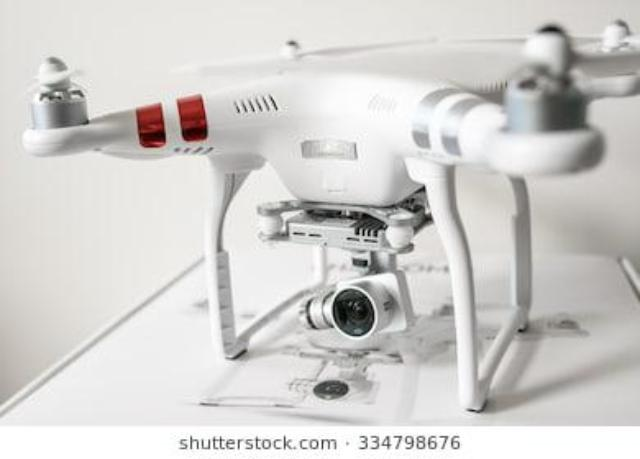drone: (0, 5, 640, 398)
